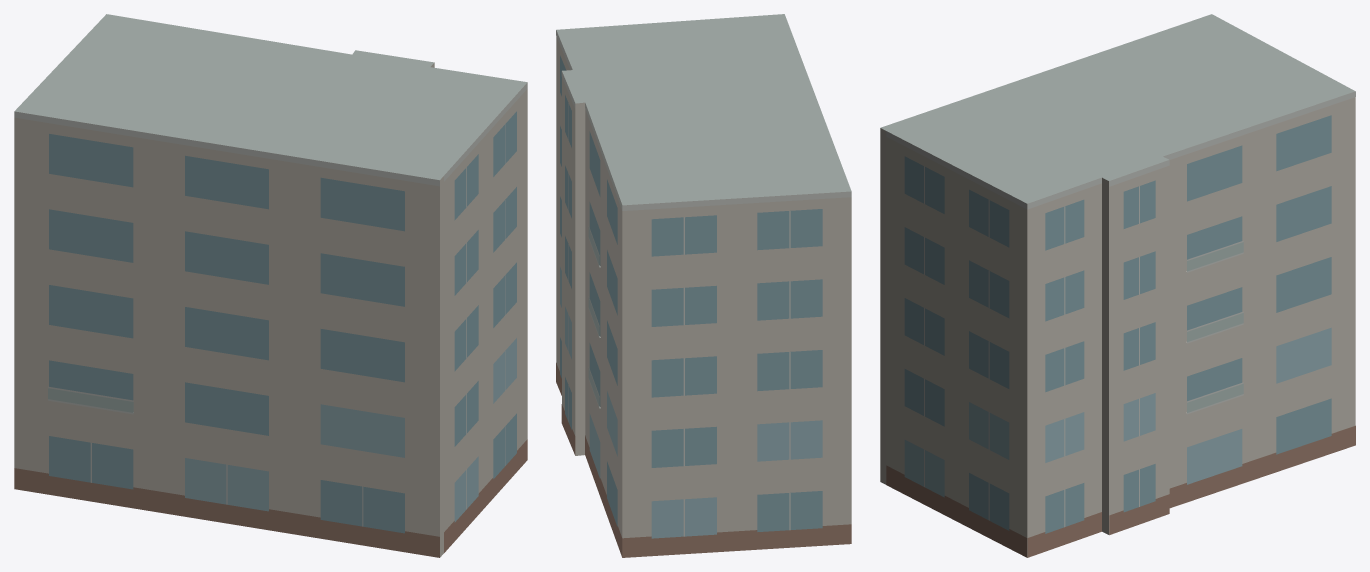
Rendered from survey-upis-33005037.glb.
3 views of the same model, side by side, from view 1: azimuth 30°, elevation 25°; view 2: azimuth 150°, elevation 25°; view 3: azimuth 270°, elevation 25° (orthographic). The views are drawn at different scales.
Parts seen in each view (by area): view 1: survey-upis-33005037.tmp; view 2: survey-upis-33005037.tmp; view 3: survey-upis-33005037.tmp.
Part boxes in pixels (x1,y1,x2,y2): survey-upis-33005037.tmp: (14,14,527,557); survey-upis-33005037.tmp: (556,14,851,557); survey-upis-33005037.tmp: (880,14,1355,557).
Bounding box in the file's own units: 17.28 × 15.02 × 18.3.
